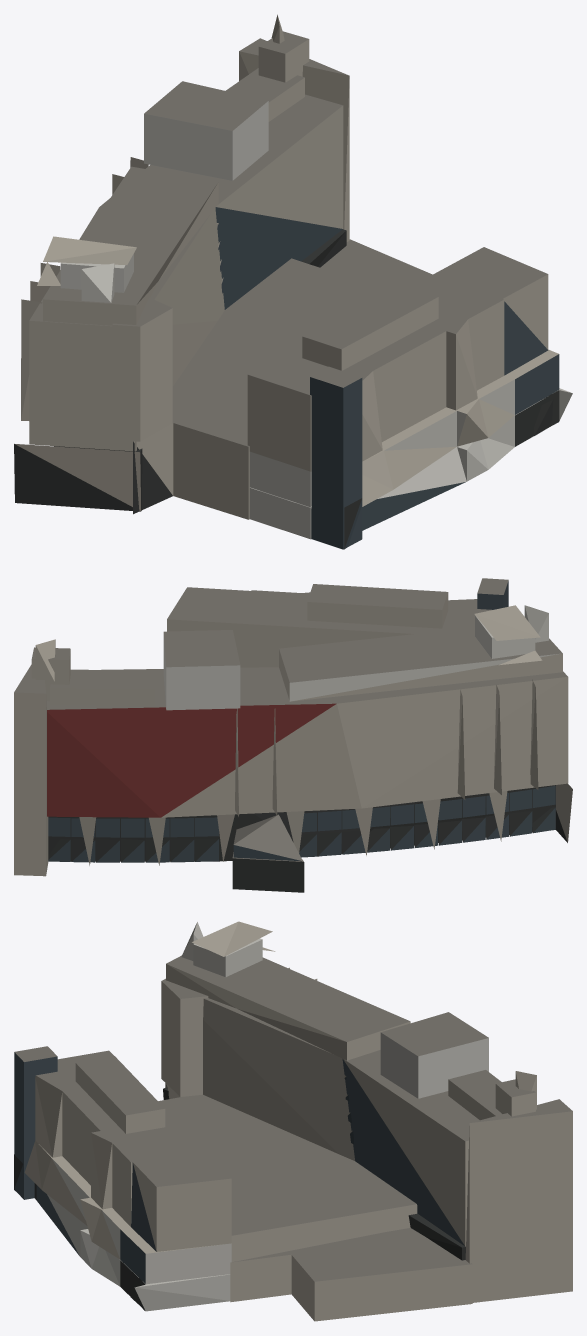
The model's file is autopon.lod2.glb.
The picture shows the model from 3 angles, top to bottom: view 1: azimuth 30°, elevation 25°; view 2: azimuth 150°, elevation 25°; view 3: azimuth 270°, elevation 25°; orthographic projection. The views are drawn at different scales.
Parts seen in each view (by area): view 1: lod2; view 2: lod2; view 3: lod2.
Part boxes in pixels (x1,y1,x2,y2): lod2: (14,14,572,549); lod2: (14,578,572,892); lod2: (14,921,572,1321).
Size of the model in its own units: 69.86 by 32.4 by 76.48.
